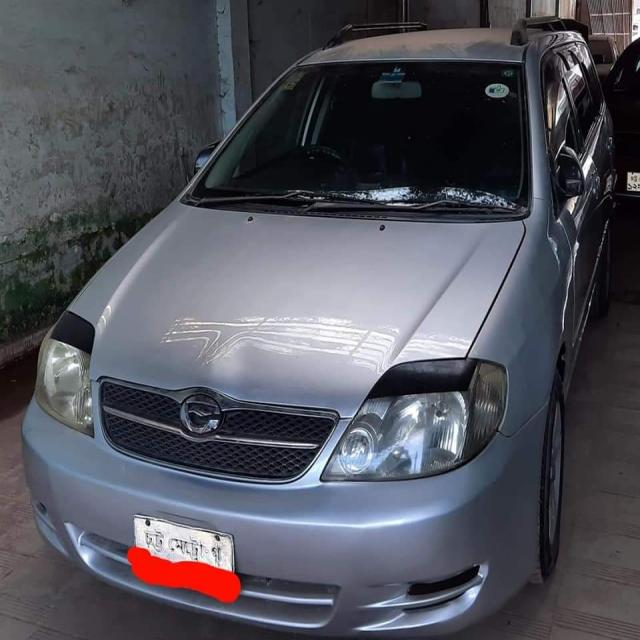silver: (20, 28, 616, 640)
